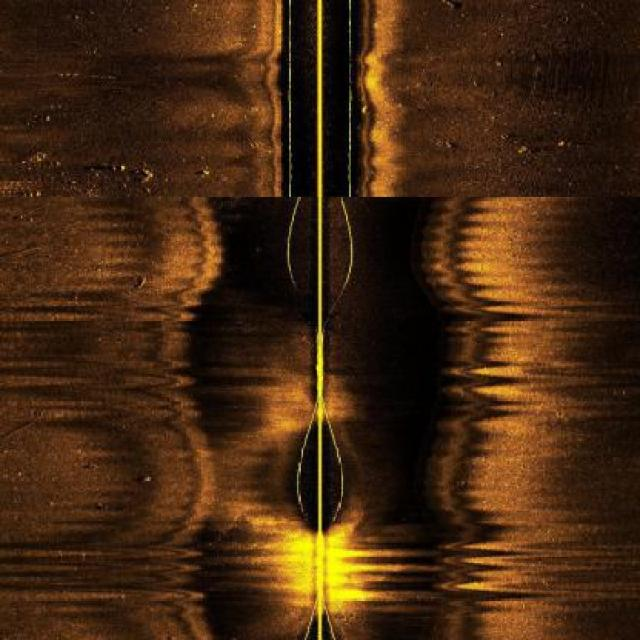mine: (128, 274, 148, 289)
